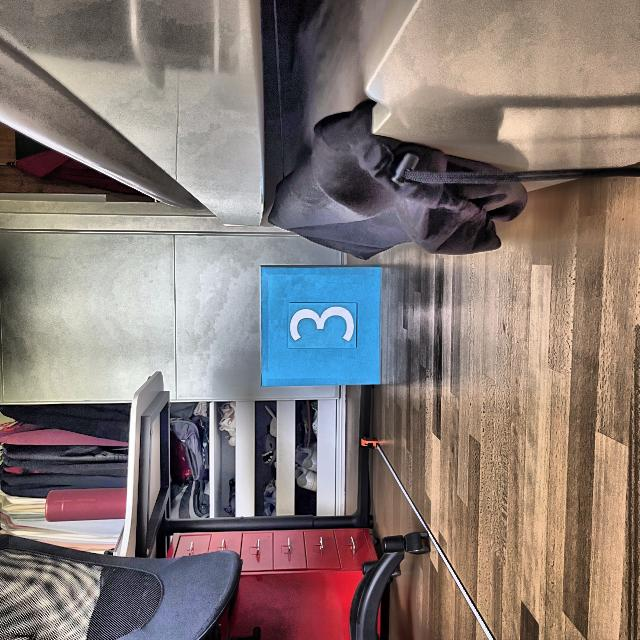blue box: (260, 264, 384, 387)
three: (289, 306, 355, 342)
